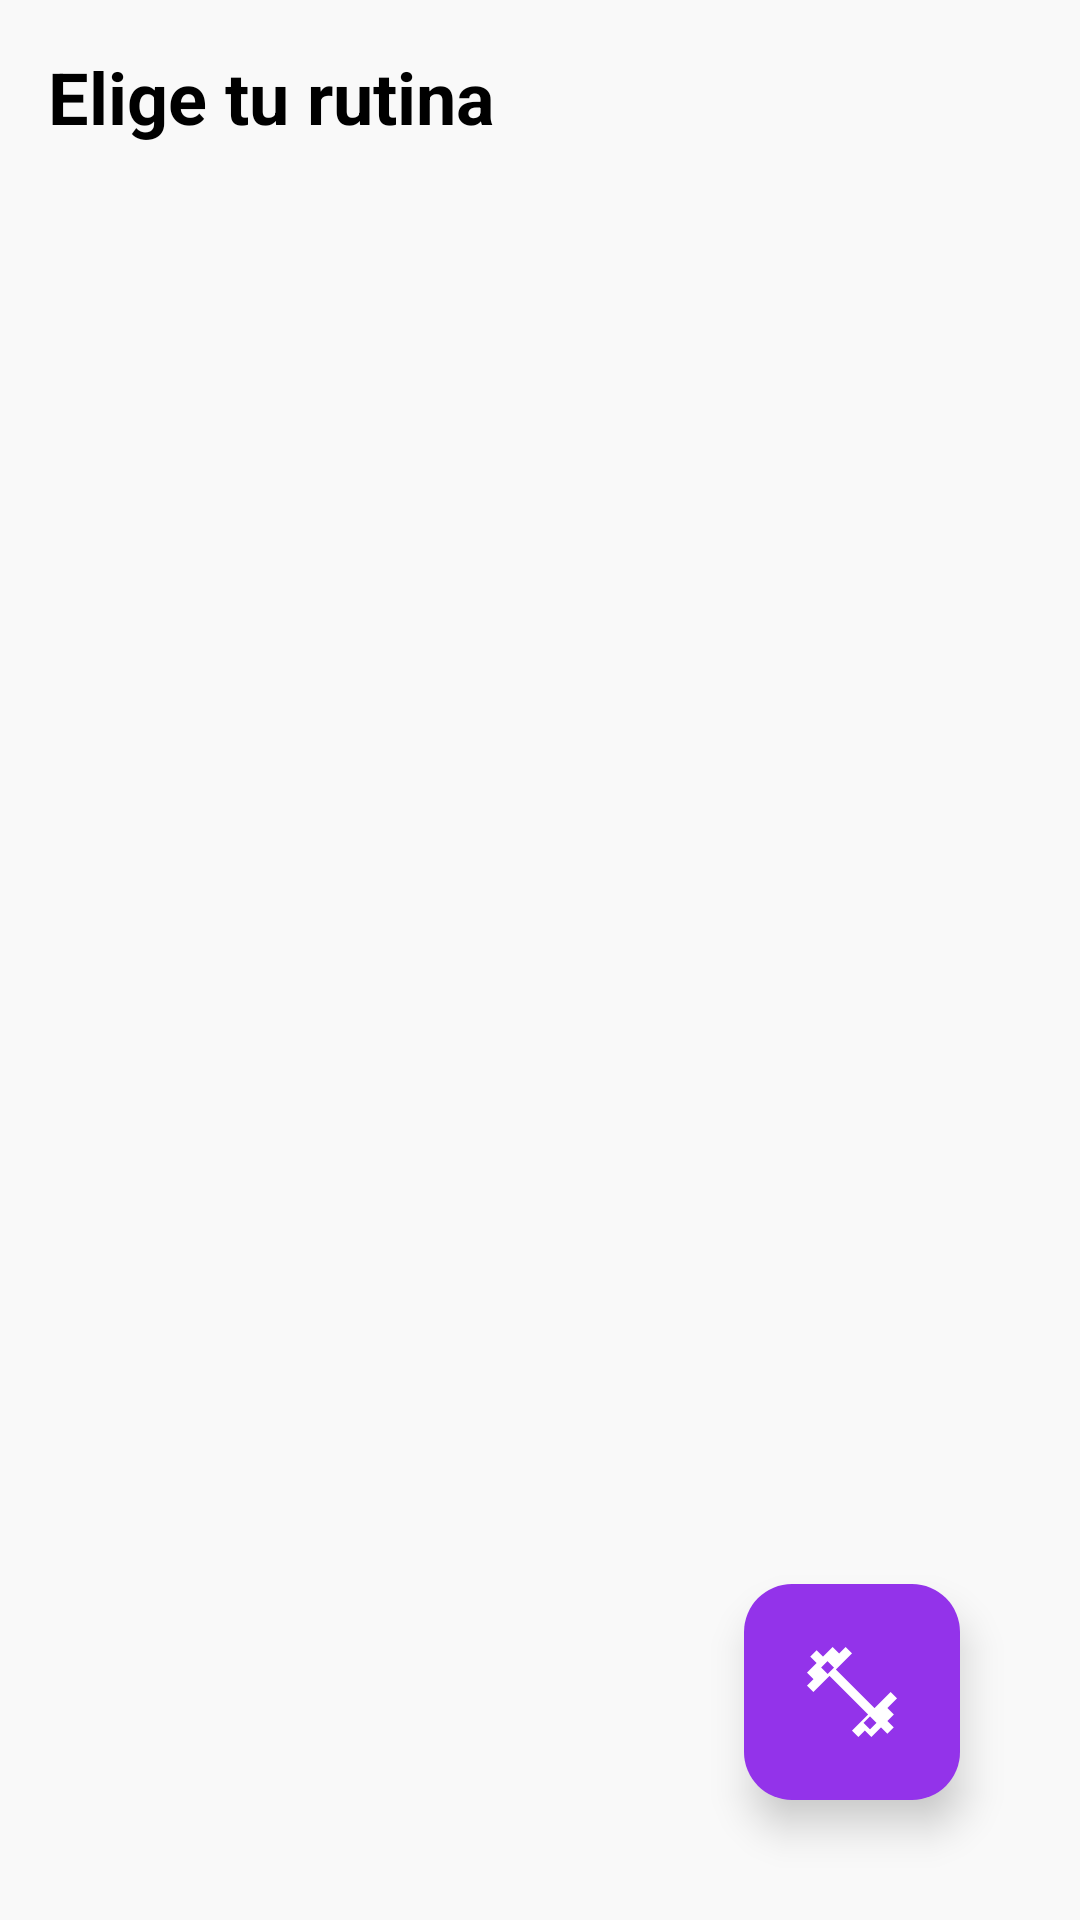

Screen size 1080x1920. Icon name, then its center in pixels as [x,y]:
Entrenamiento Libre: [852,1692]
